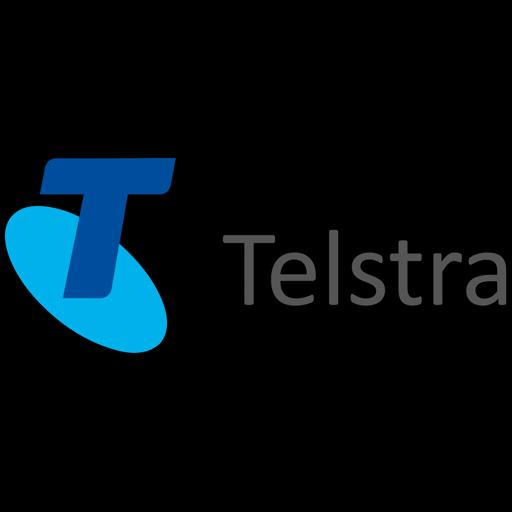Telstra Corporation Limited: (0, 156, 512, 355)
